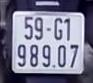0: (57, 44, 67, 69)
1: (64, 17, 73, 42)
5: (23, 16, 34, 40)
7: (69, 44, 79, 69)
8: (30, 43, 39, 67)
9: (17, 43, 27, 68), (41, 44, 51, 67), (35, 17, 44, 40)
G: (53, 17, 64, 41)
